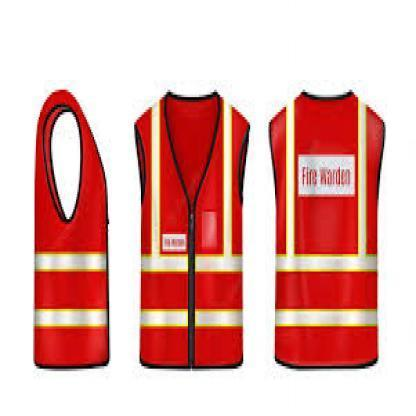vest: (270, 87, 384, 376), (130, 85, 246, 368), (32, 76, 110, 366)
